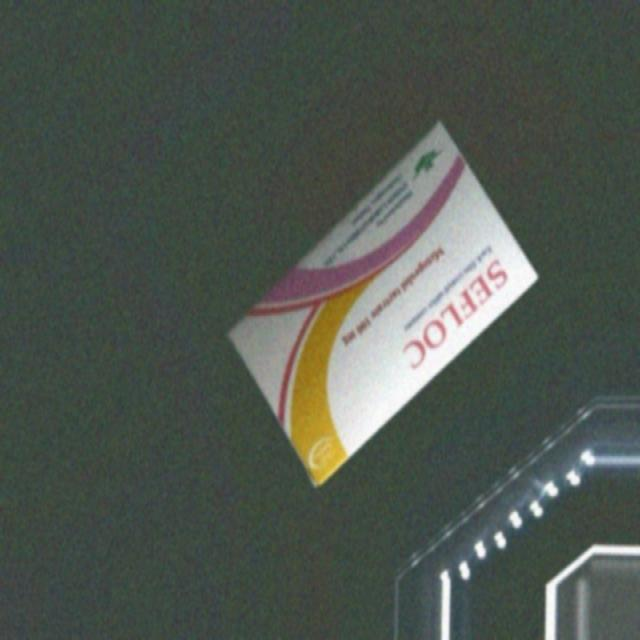medicine_name_detection: (222, 124, 536, 481)
